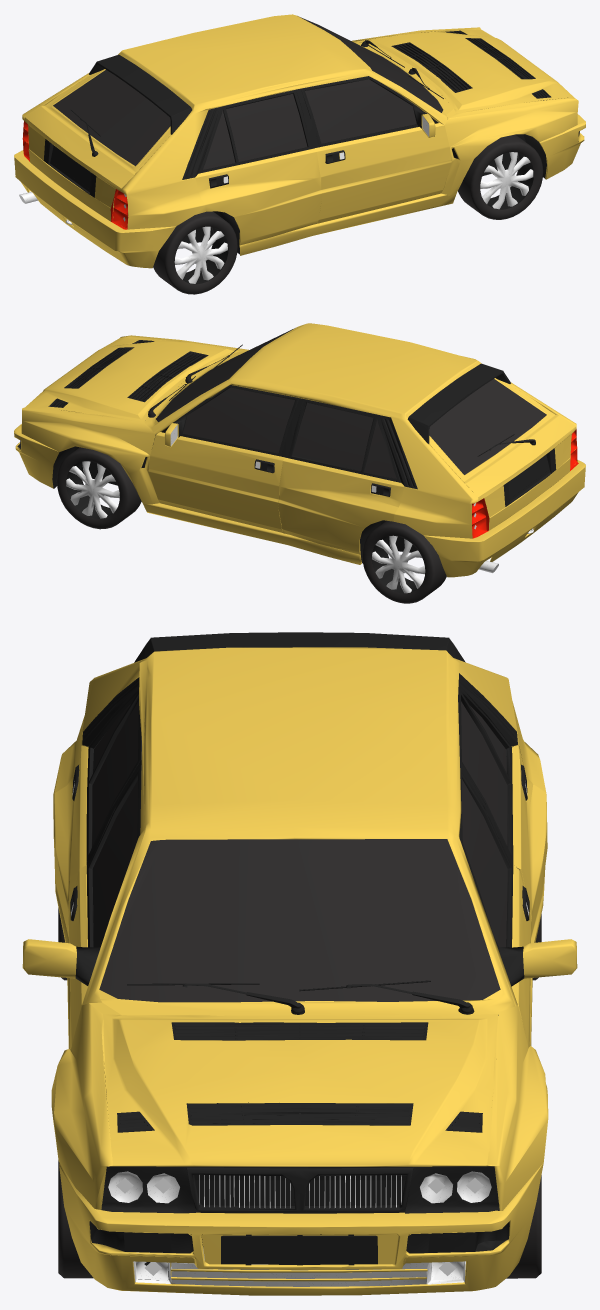
The model's file is sm_lanciacar_lod_2.fbx.
3 renders of one model, top to bottom at view 1: azimuth 30°, elevation 25°; view 2: azimuth 150°, elevation 25°; view 3: azimuth 270°, elevation 25°, orthographic. The views are drawn at different scales.
Visible parts, largest first — view 1: lod2; view 2: lod2; view 3: lod2.
Boxes of the visible parts, x1,y1,x2,y2 form: lod2: (14, 14, 585, 294); lod2: (14, 323, 585, 603); lod2: (22, 632, 577, 1295).
Size of the model in its own units: 4 by 1.37 by 2.
Materials: 6 (6 with a texture image).
